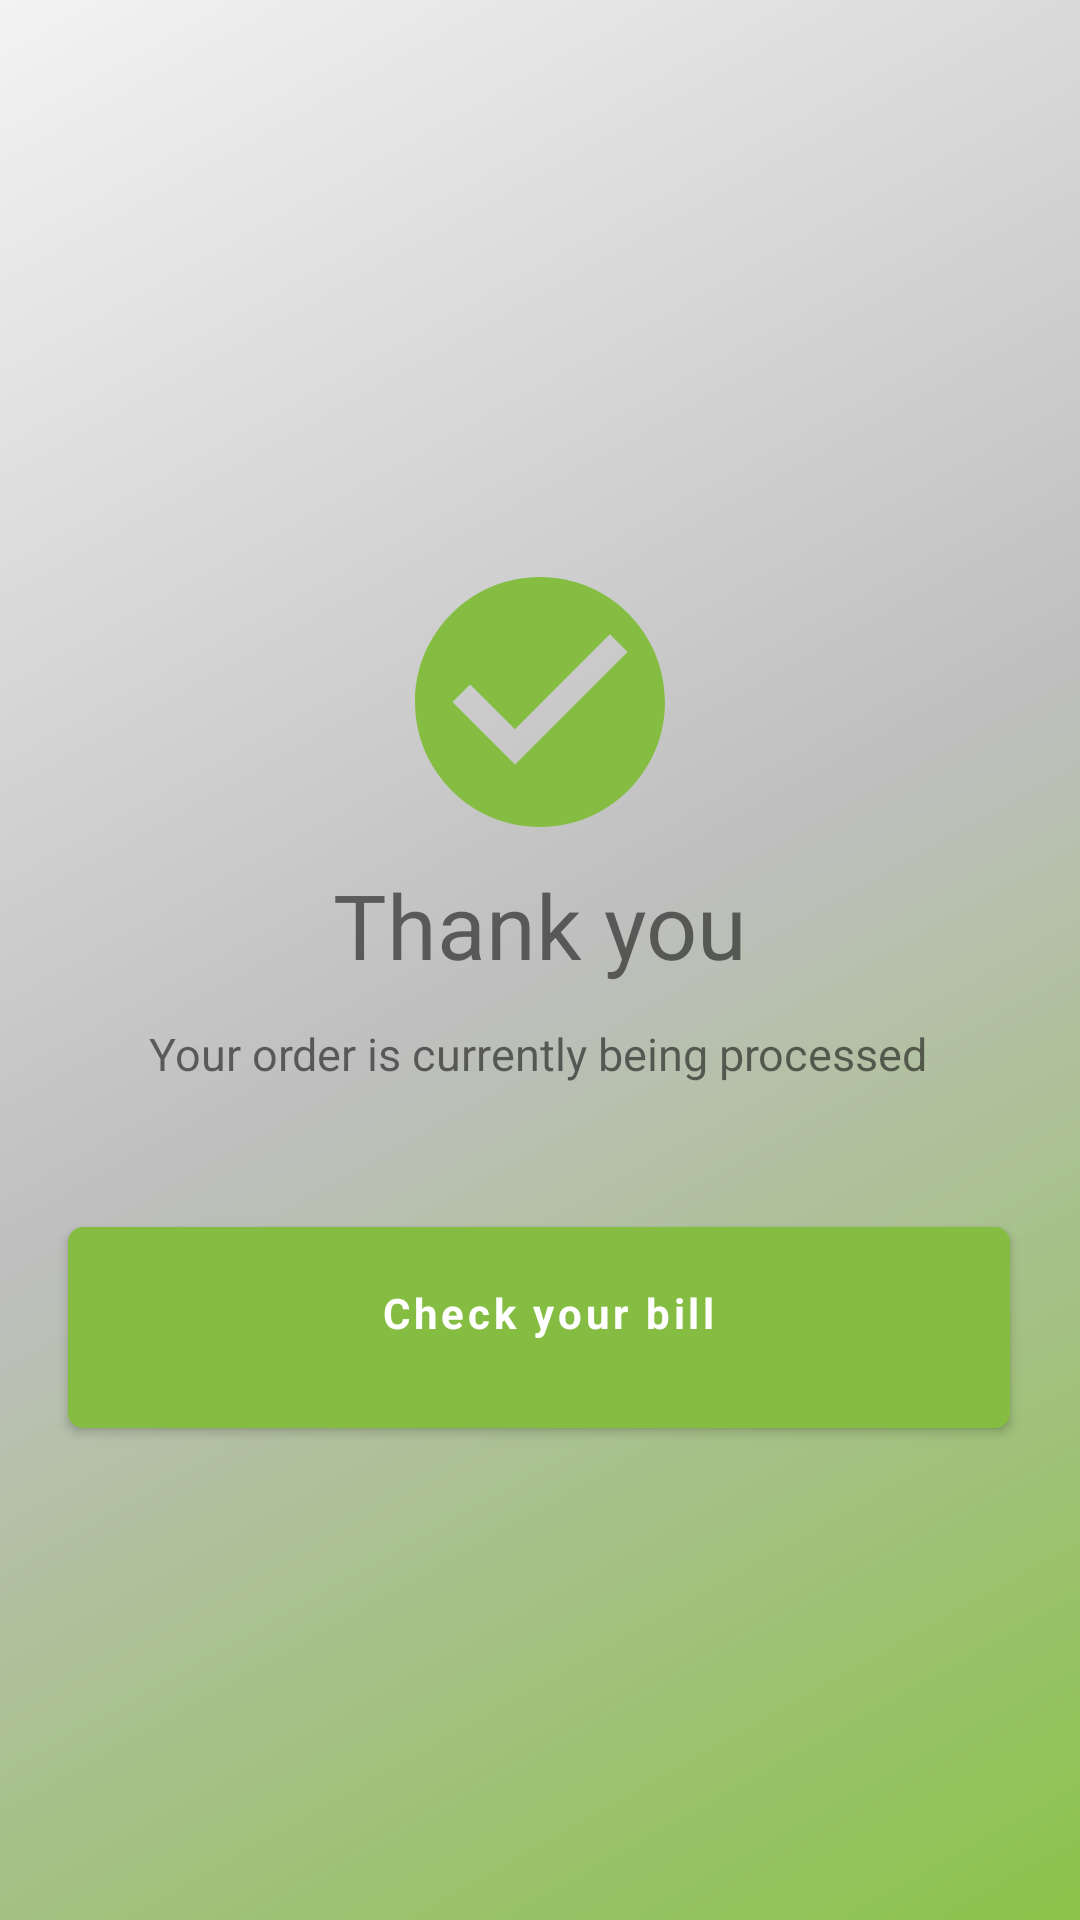

Screen size 1080w x 1920h. Icon name, then its box in pixels as (x1, y1, x2, y2):
check circle: (415, 577, 665, 827)
